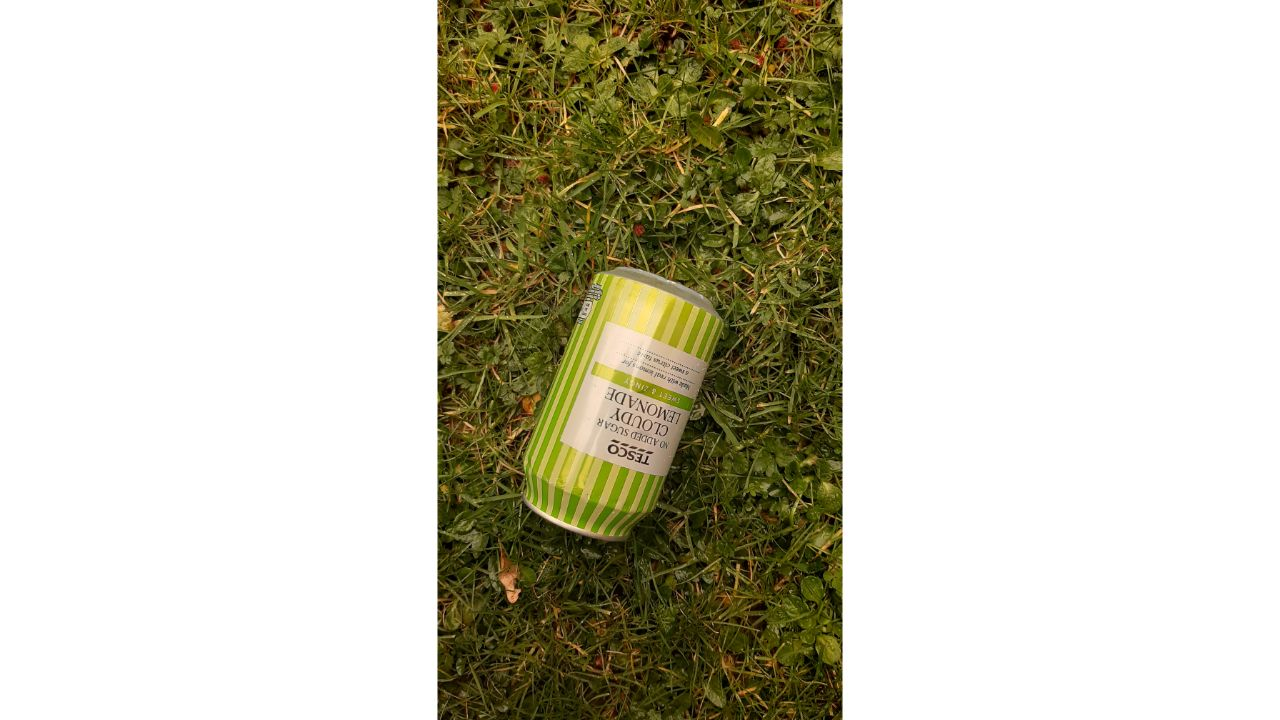Can: (508, 250, 738, 575)
